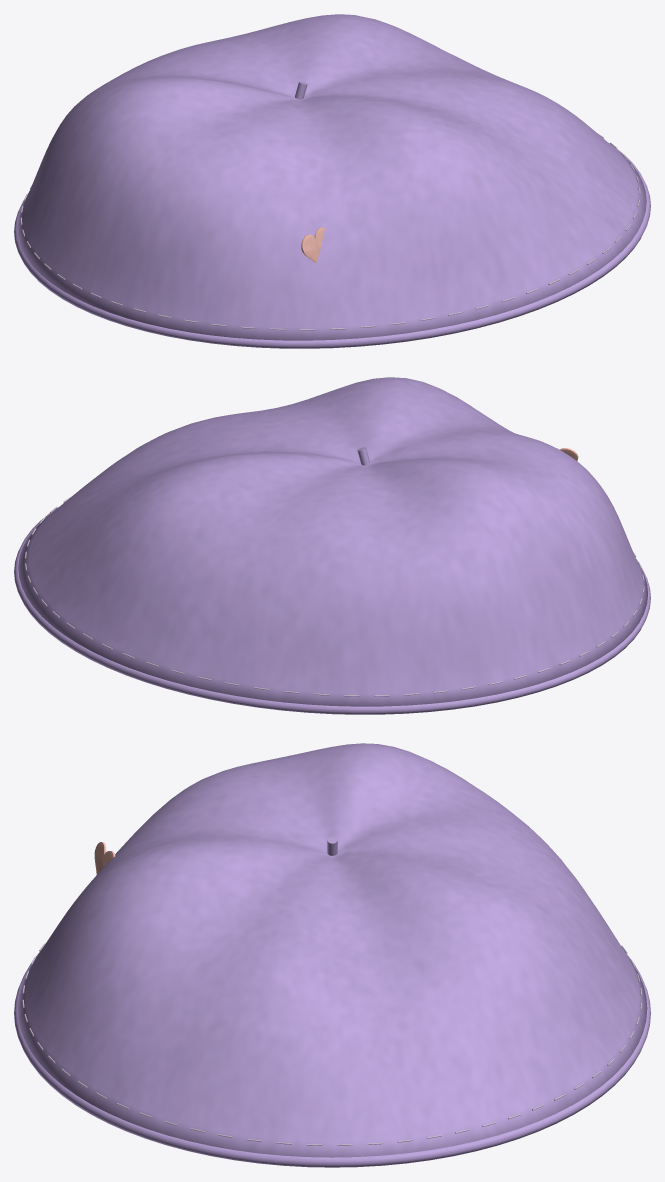
File: experimental_beret_chic_bear_v9.glb
3 renders of one model, top to bottom at view 1: azimuth 30°, elevation 25°; view 2: azimuth 150°, elevation 25°; view 3: azimuth 270°, elevation 25°, orthographic. The views are drawn at different scales.
Visible parts, largest first — view 1: Boina pequeña · fieltro con forro; view 2: Boina pequeña · fieltro con forro; view 3: Boina pequeña · fieltro con forro.
Part boxes in pixels (bbox=[...]): Boina pequeña · fieltro con forro: bbox=[14, 14, 650, 348]; Boina pequeña · fieltro con forro: bbox=[14, 377, 650, 714]; Boina pequeña · fieltro con forro: bbox=[14, 743, 650, 1167].
Bounding box in the file's own units: 0.5437 × 0.1528 × 0.4826.
3 materials, 2 textured.
